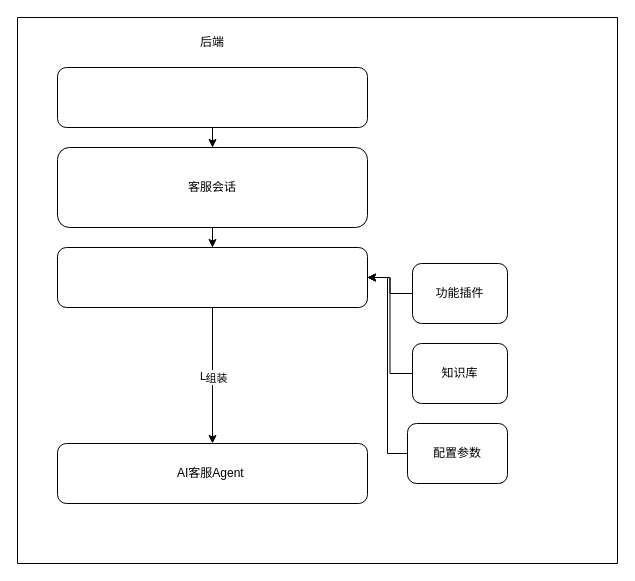
Some shapes in this 635 by 581 pixel diagram are drawn without their labels. The shapes that lost their labels are listed below. From the top down, each one's box as (x1, y1, x2, y2) in pixels, then its label:
(56, 66, 368, 128): 客服会话工厂
(56, 246, 368, 308): 客服Agent 工厂
